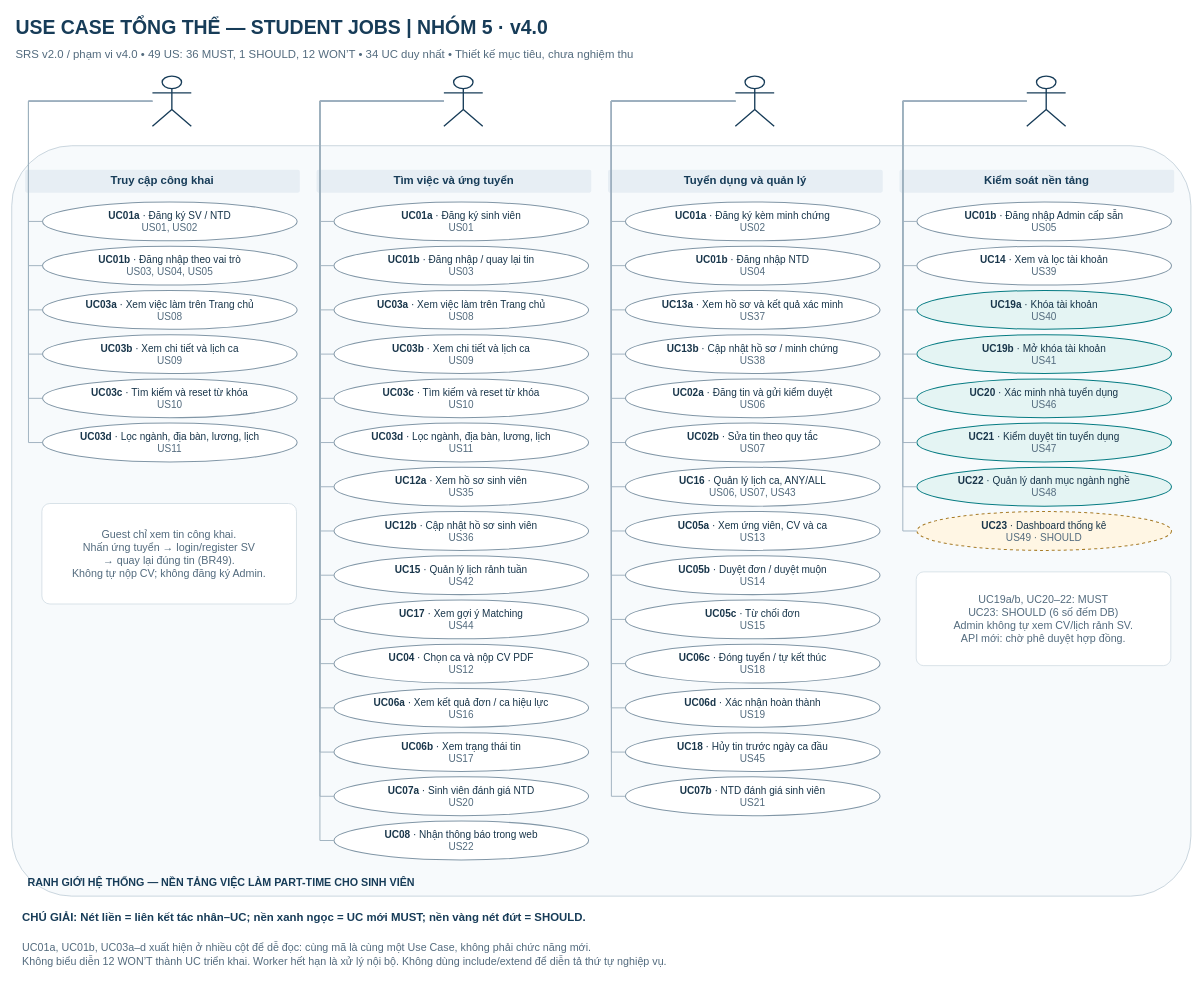
Some shapes in this 1203 by 988 pixel diagram are drawn without their labels. The shapes that lost their labels are listed below. From the top down, each one's centre as x and y in pixels, then its label:
(x=171, y=101): Khách (Guest)
(x=463, y=101): Sinh viên
(x=754, y=101): Nhà tuyển dụng
(x=1046, y=101): Quản trị viên
